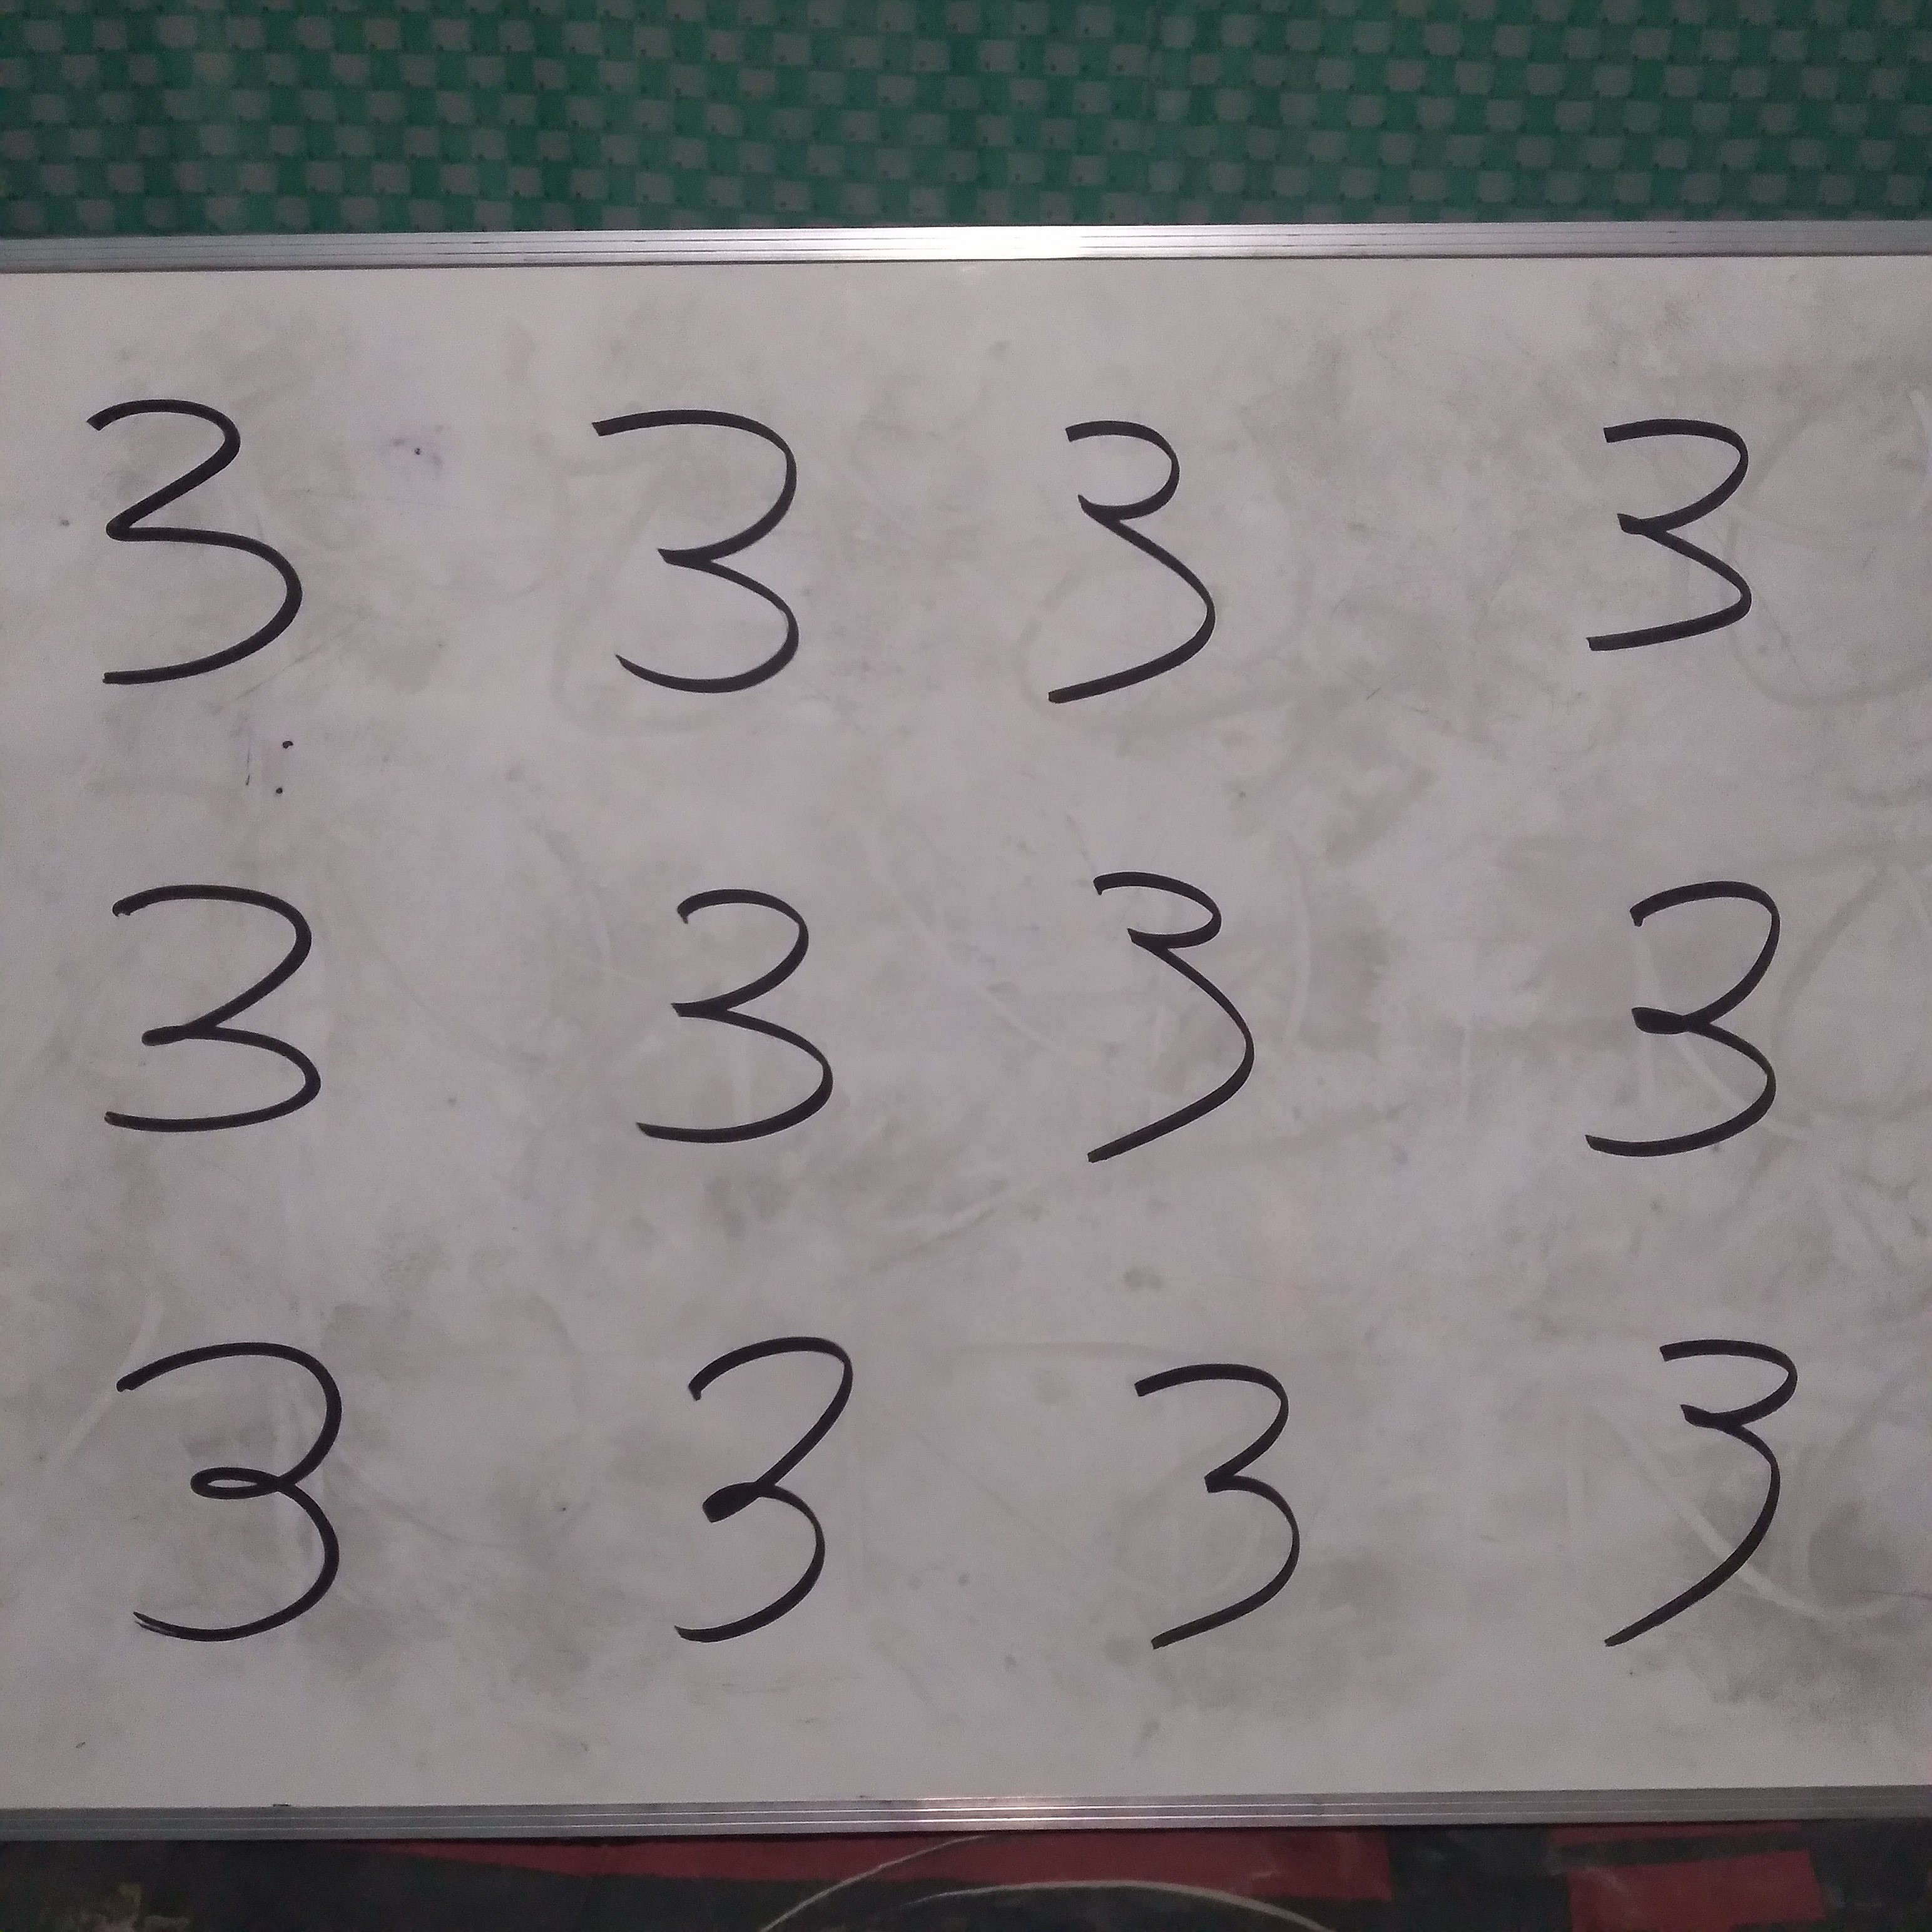num3: (61, 372, 325, 717), (1535, 353, 1799, 698), (566, 379, 830, 724), (995, 402, 1259, 747), (1563, 824, 1828, 1169), (1032, 837, 1296, 1182), (606, 833, 870, 1178), (1590, 1326, 1854, 1670), (81, 850, 345, 1195), (104, 1303, 368, 1648), (618, 1312, 882, 1657), (1066, 1335, 1330, 1680)
